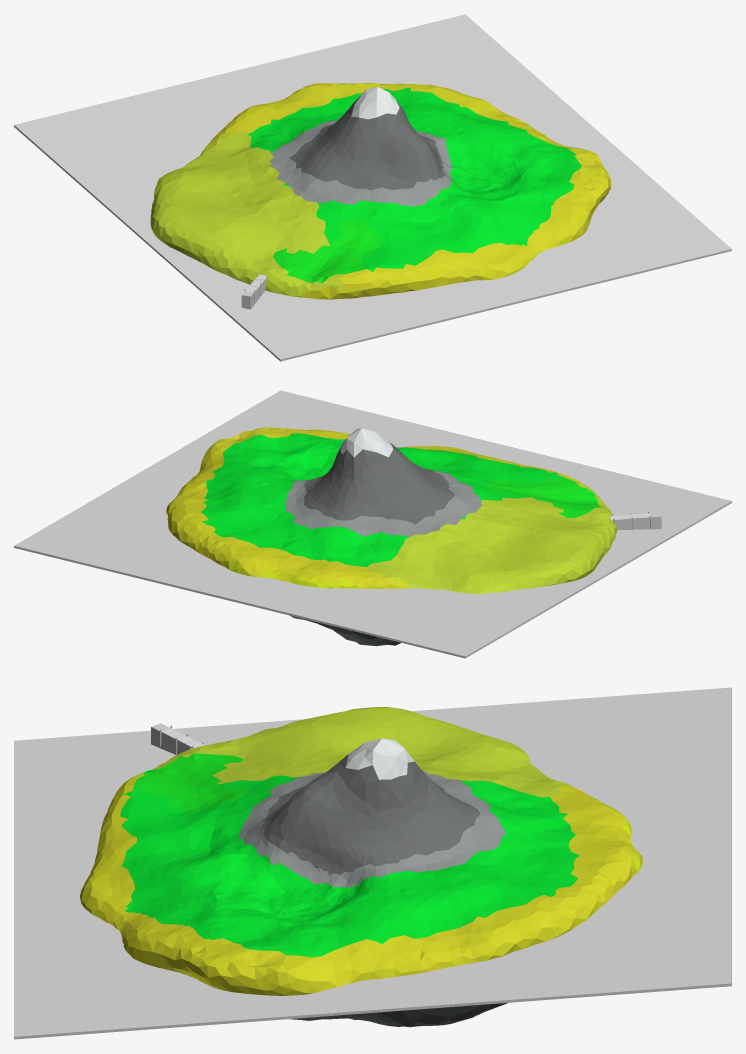
The model's file is island_wall.fbx.
3 renders of one model, top to bottom at view 1: azimuth 30°, elevation 25°; view 2: azimuth 150°, elevation 25°; view 3: azimuth 270°, elevation 25°, orthographic. The views are drawn at different scales.
Visible parts, largest first — view 1: Icosphere, Cube; view 2: Icosphere, Cube, shape; view 3: Icosphere, Cube, shape.
Part boxes in pixels (left/top/right/bottom): Icosphere: left=150, top=83, right=611, bottom=299; Cube: left=14, top=14, right=731, bottom=361; Icosphere: left=166, top=427, right=617, bottom=646; Cube: left=14, top=390, right=731, bottom=658; shape: left=615, top=512, right=661, bottom=530; Icosphere: left=80, top=707, right=642, bottom=1027; Cube: left=14, top=687, right=731, bottom=1039; shape: left=151, top=723, right=191, bottom=755.
Size of the model in its own units: 3776 by 1642 by 3862.
